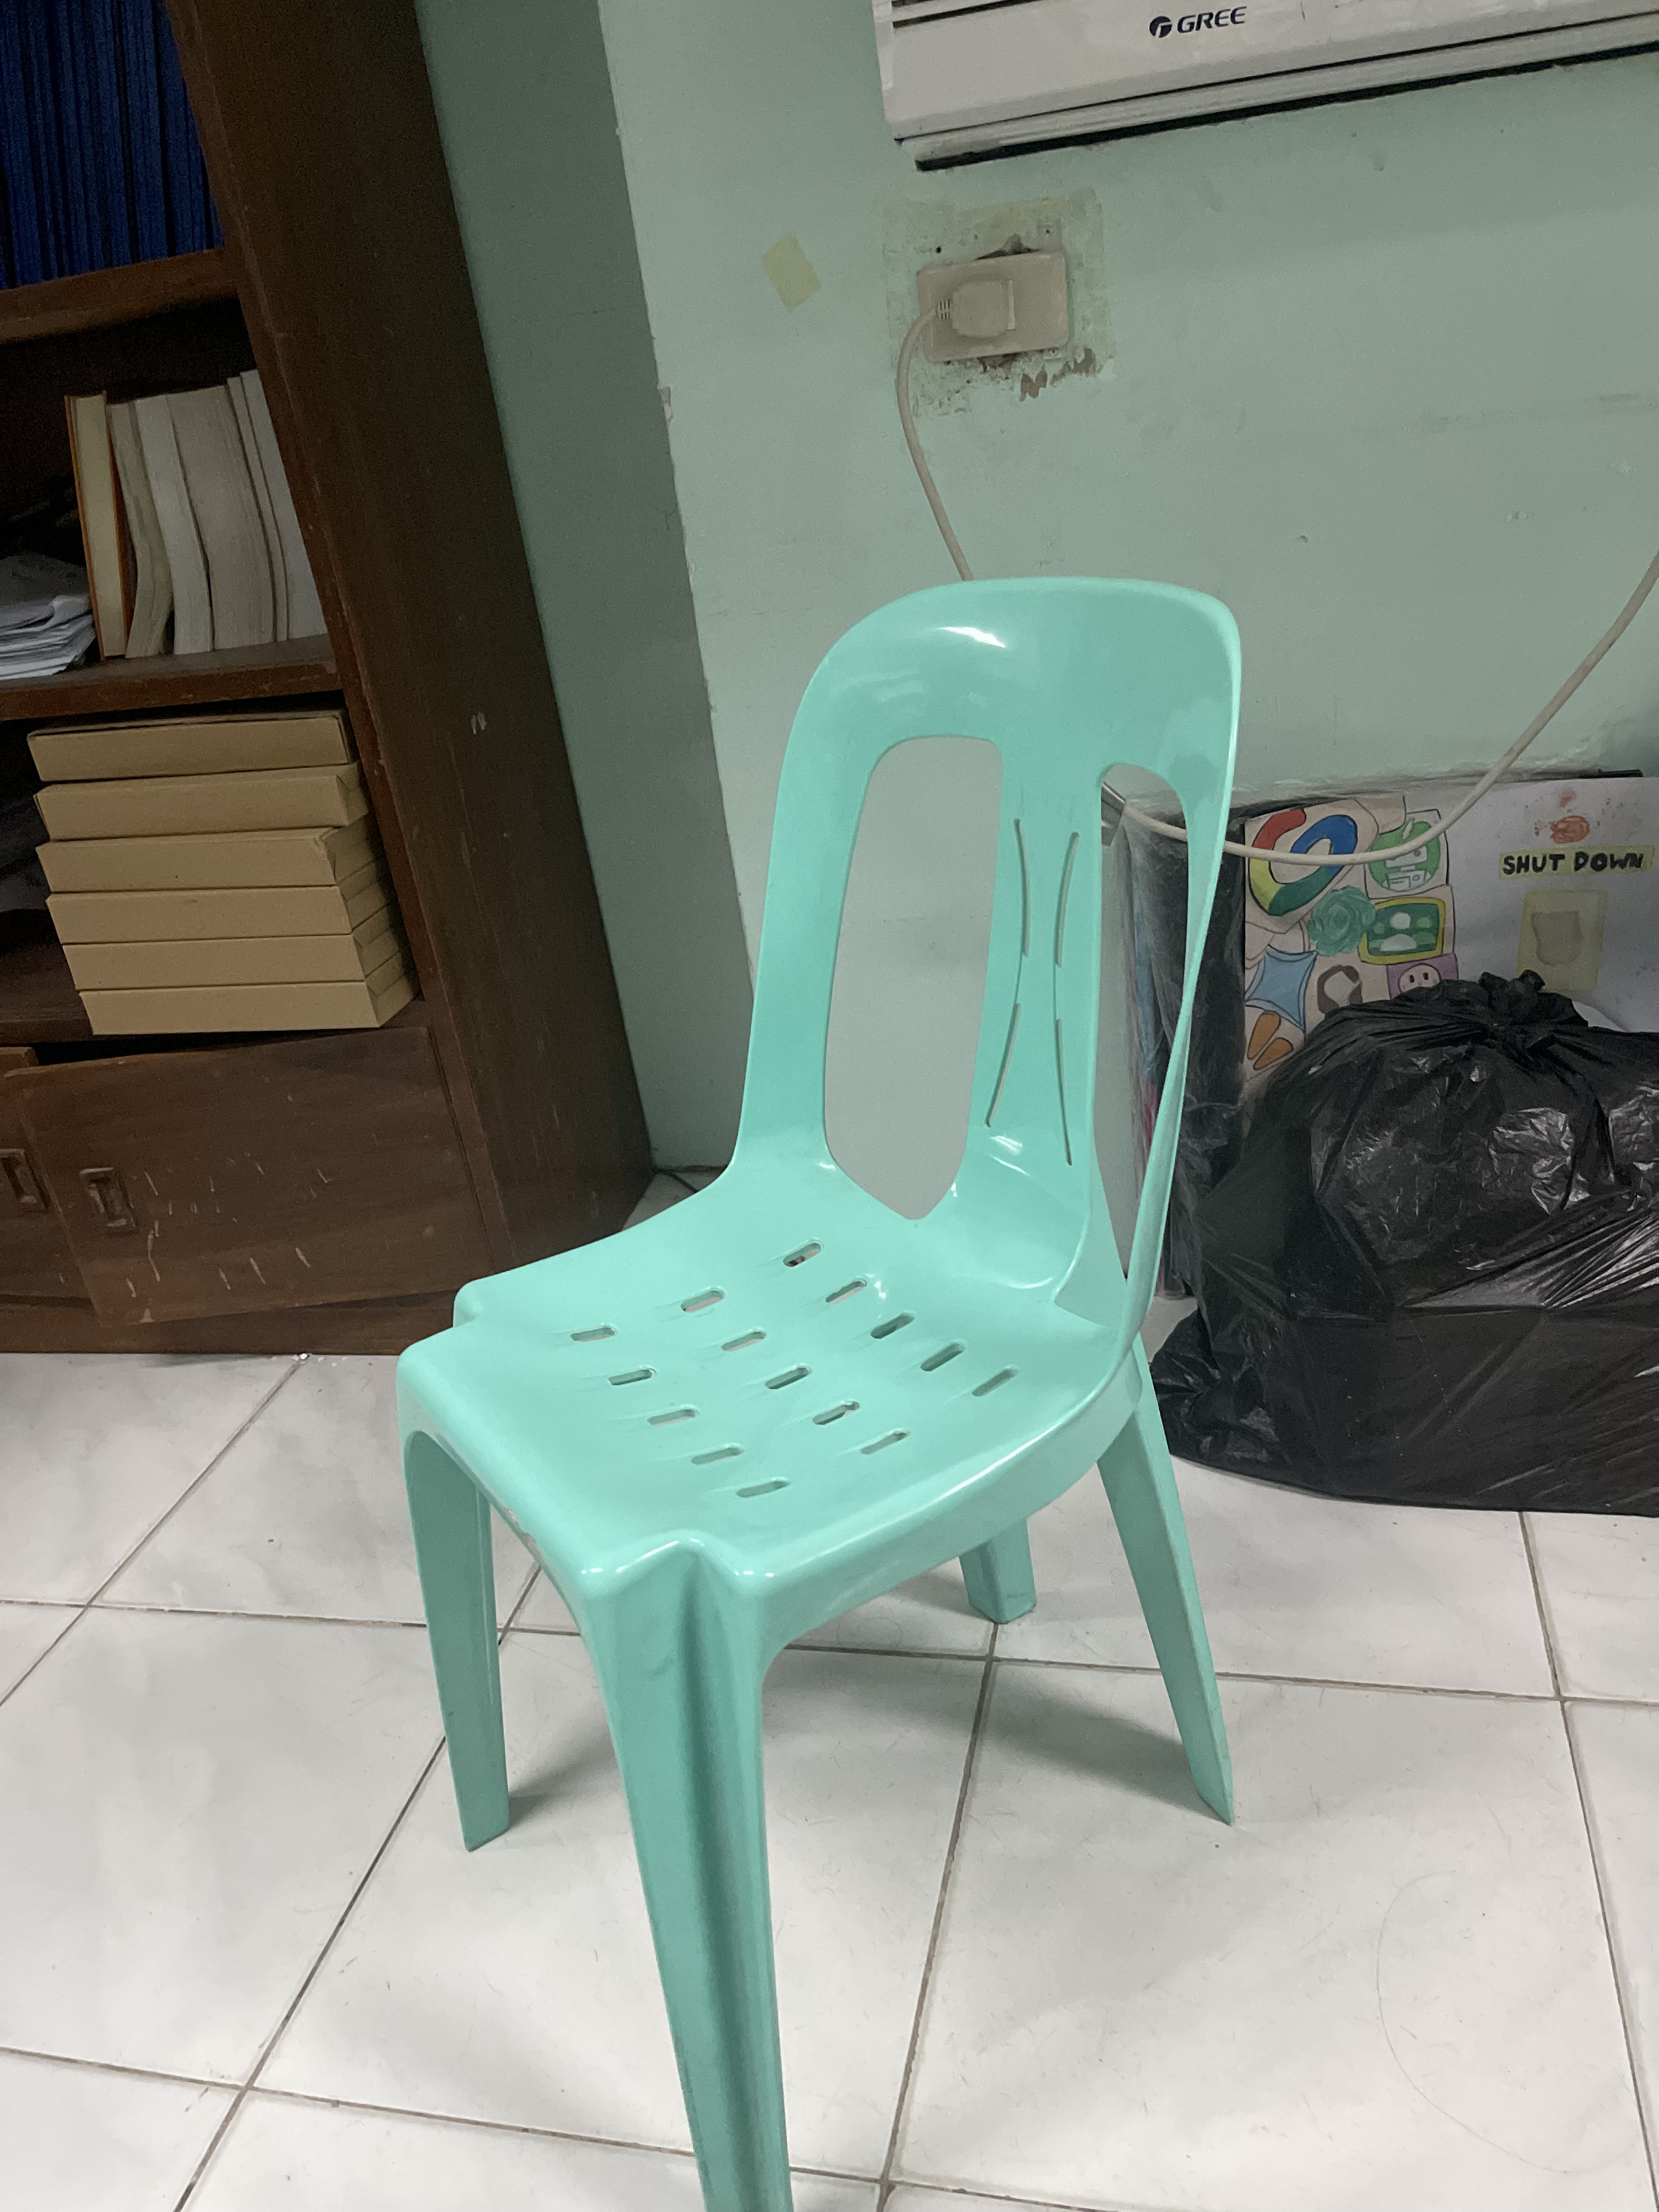chair2: (380, 563, 1283, 2212)
